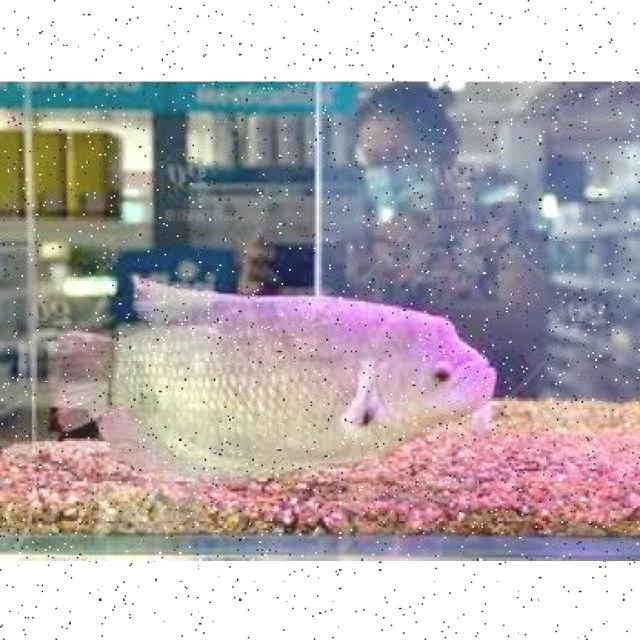gurame: (51, 284, 502, 476)
